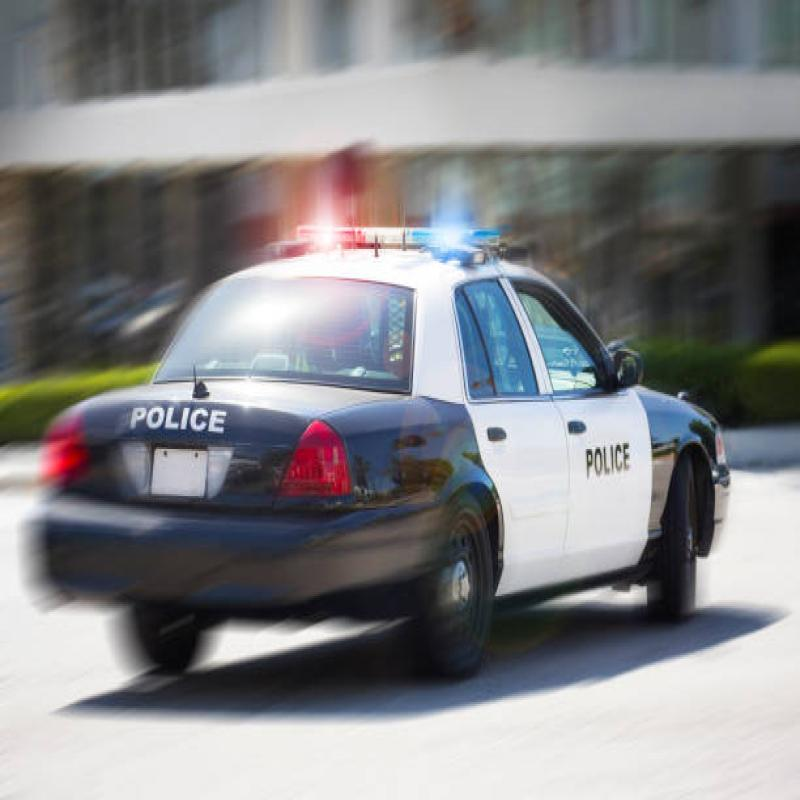AmbulanceSiren: (281, 214, 528, 290)
